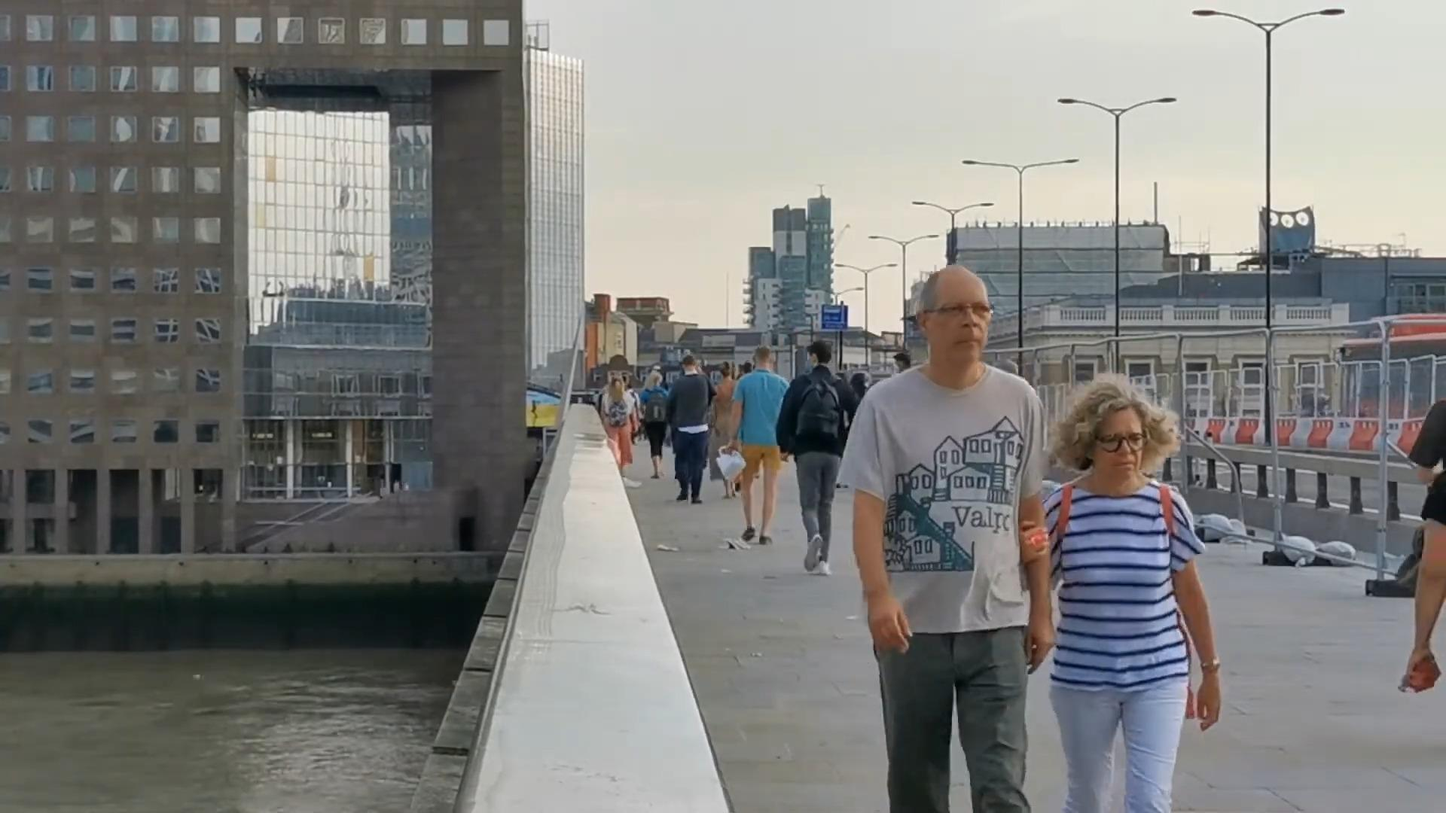no-helmet: (1054, 373, 1182, 479), (916, 264, 994, 366), (806, 340, 831, 371), (752, 344, 772, 368), (608, 376, 625, 398), (682, 354, 698, 373)
